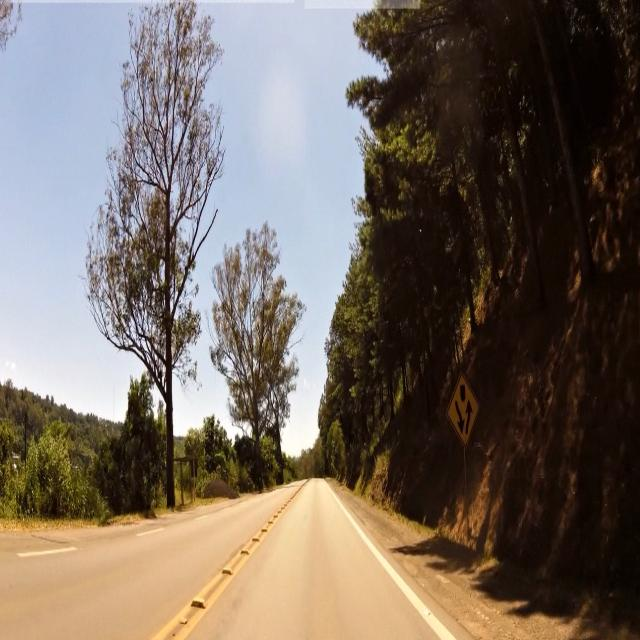A-42b: (447, 370, 487, 452)
